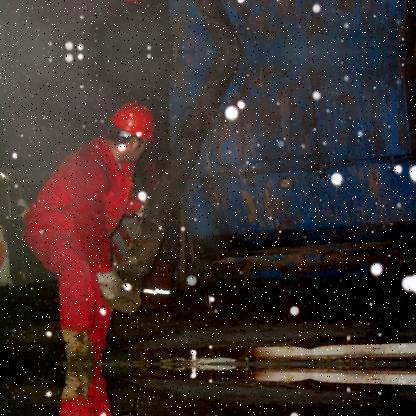Helmet: (106, 102, 164, 168)
